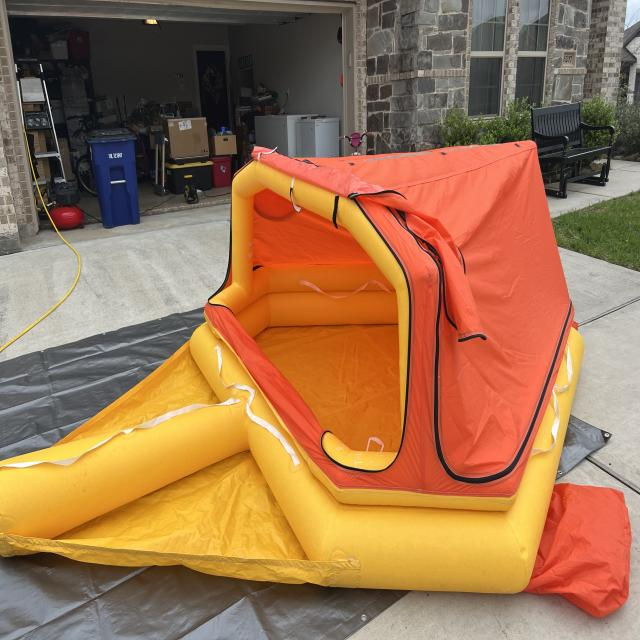Multi-person_life_raft: (0, 140, 632, 620)
